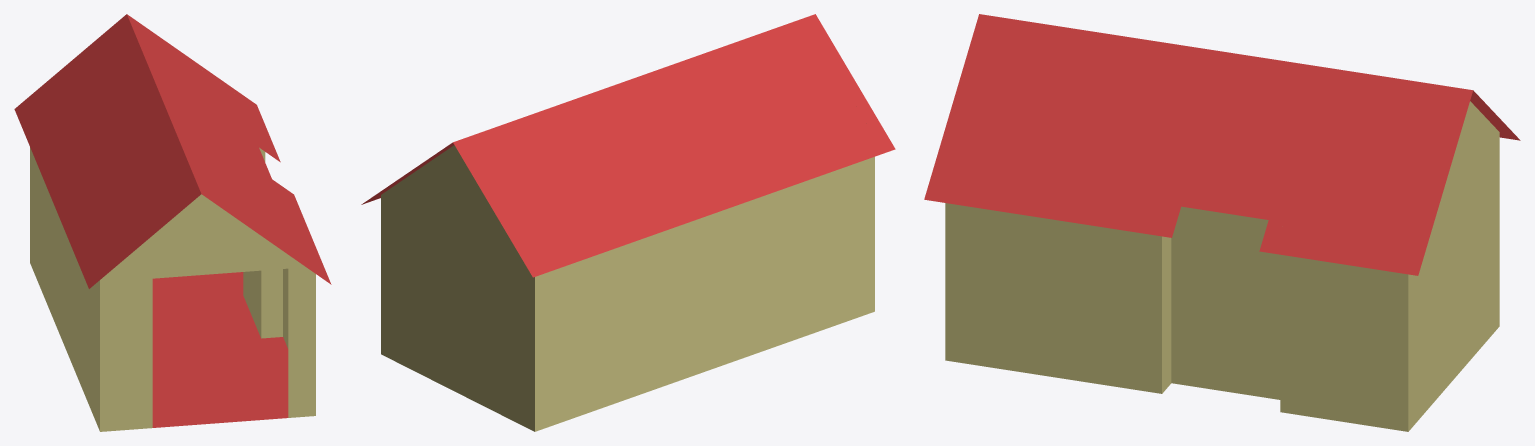
The picture shows the model from 3 angles, left to right: view 1: azimuth 30°, elevation 25°; view 2: azimuth 150°, elevation 25°; view 3: azimuth 270°, elevation 25°; orthographic projection. The views are drawn at different scales.
Bounding box in the file's own units: 21.04 × 27.21 × 14.44.
